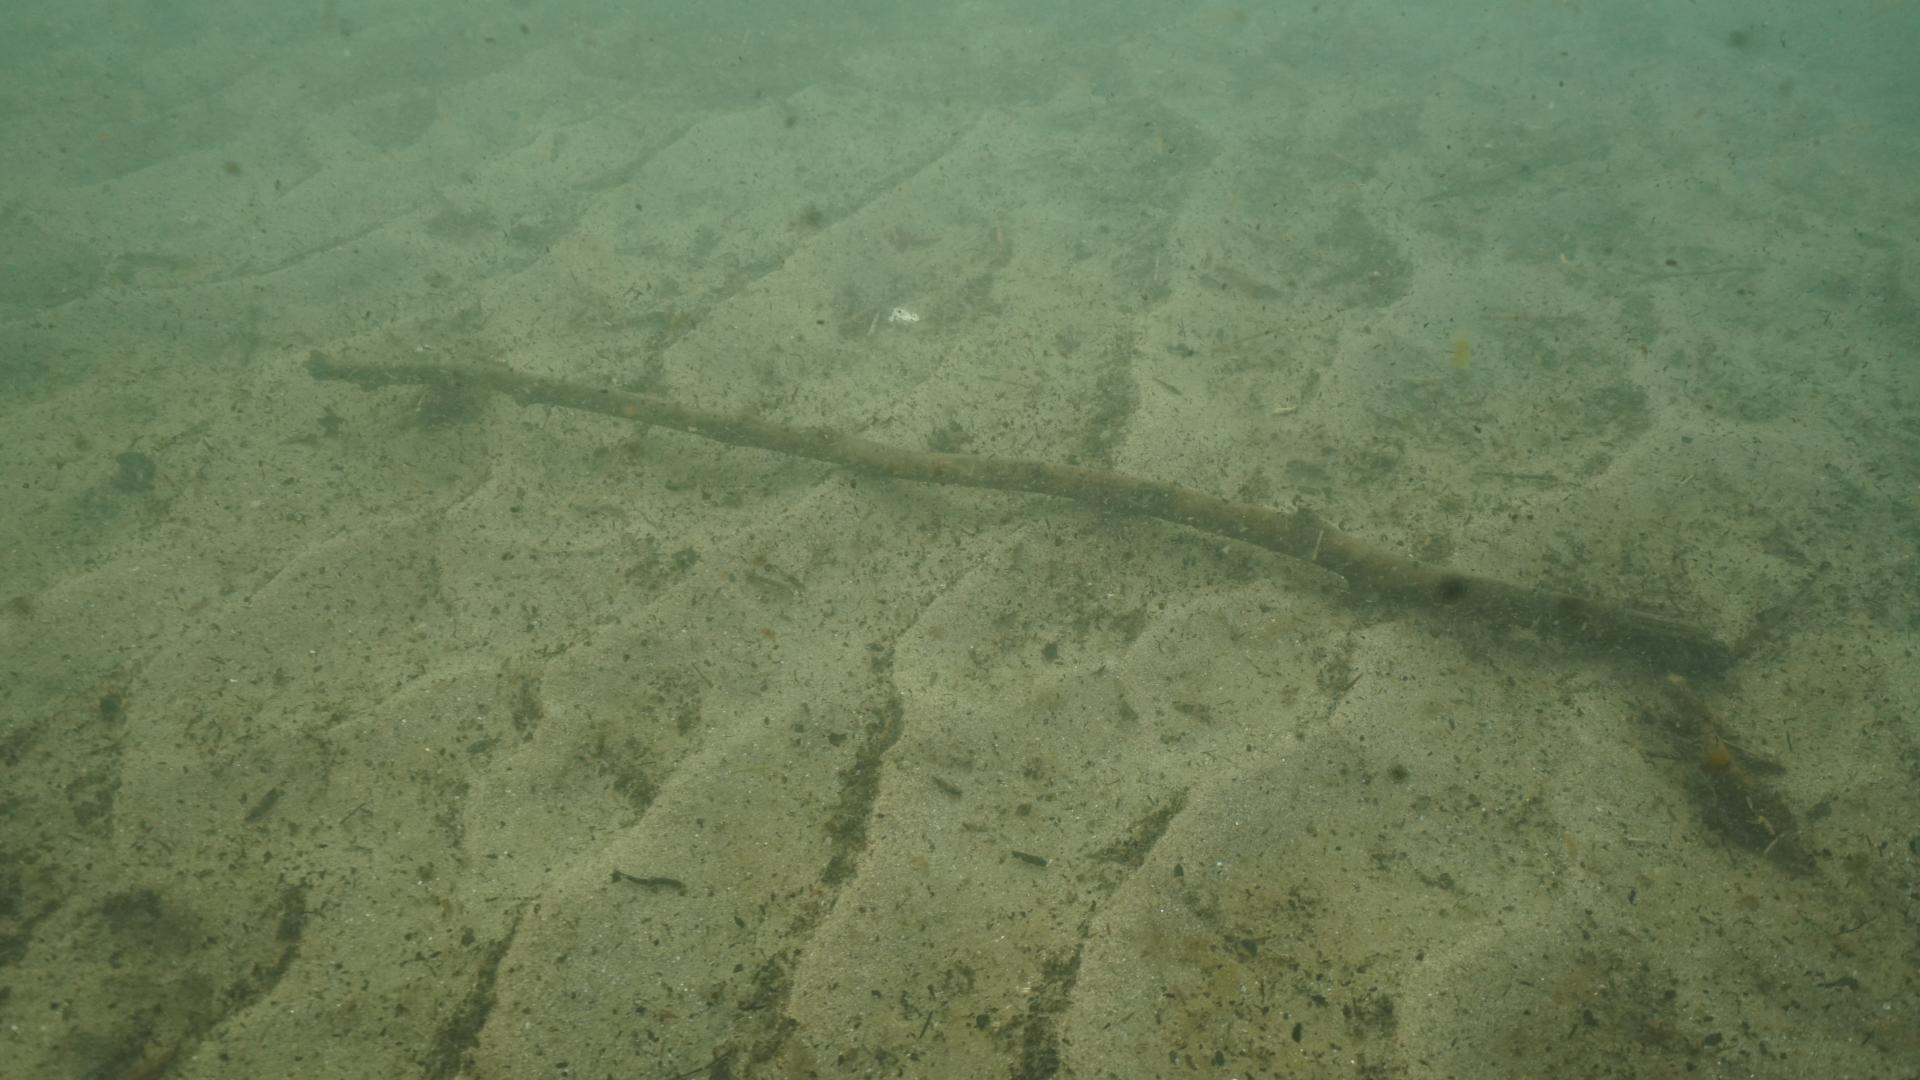wood: (301, 349, 1727, 680)
